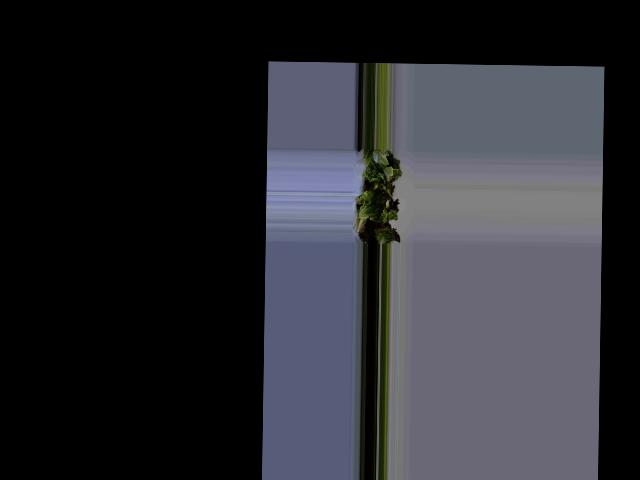lettuce: (361, 154, 398, 241)
